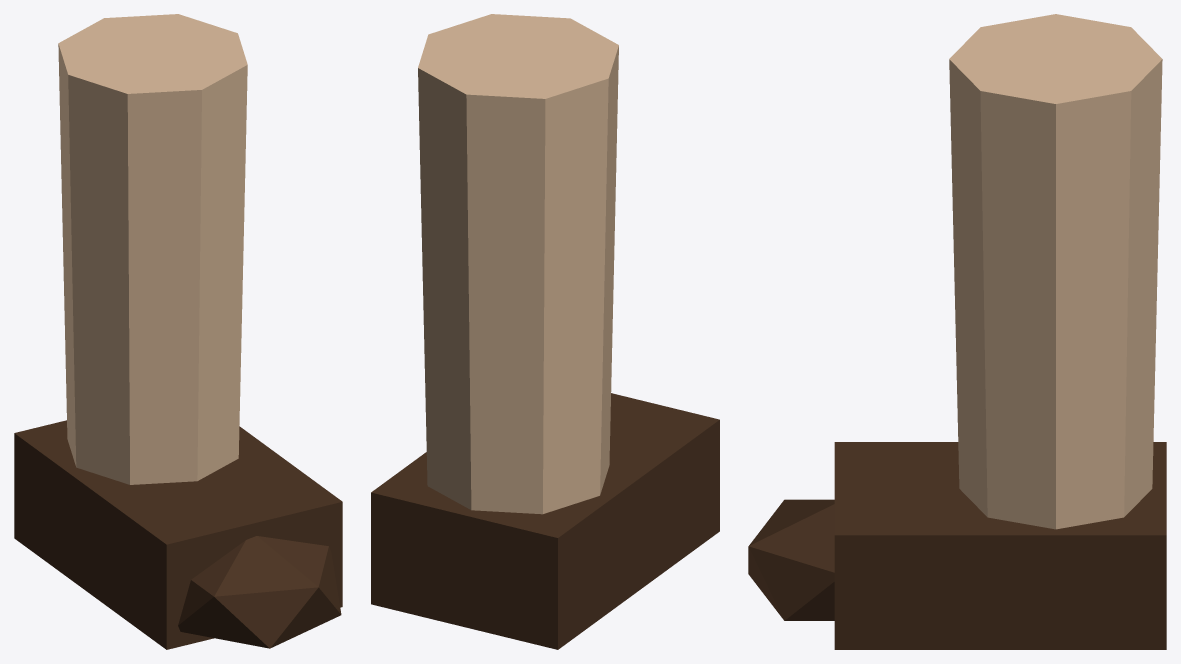
Rendered from insan_k2k_bacak.glb.
3 renders of one model, left to right at view 1: azimuth 30°, elevation 25°; view 2: azimuth 150°, elevation 25°; view 3: azimuth 270°, elevation 25°, orthographic. The views are drawn at different scales.
Parts seen in each view (by area): view 1: Cone; view 2: Cone; view 3: Cone.
Part boxes in pixels (box(x1,y1,x2,y2)): Cone: box(14, 14, 342, 649); Cone: box(371, 14, 719, 649); Cone: box(748, 14, 1166, 649).
Bounding box in the file's own units: 0.028 × 0.0784 × 0.0529.
